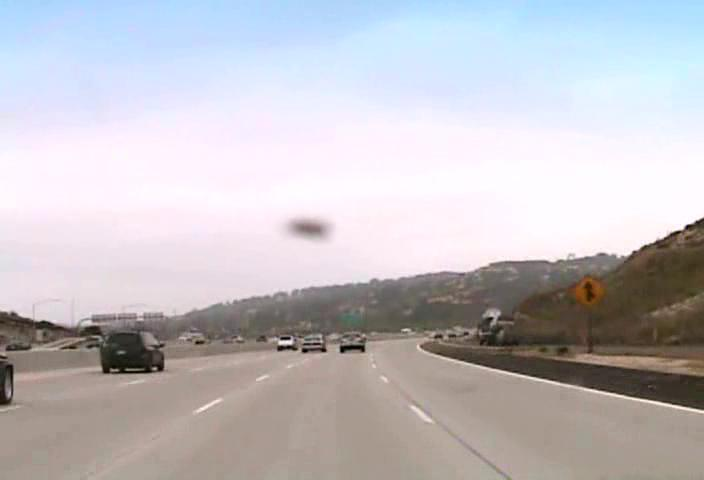merge: (570, 273, 607, 309)
